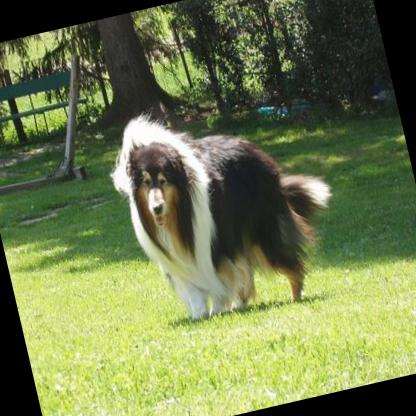collie: (96, 74, 354, 336)
